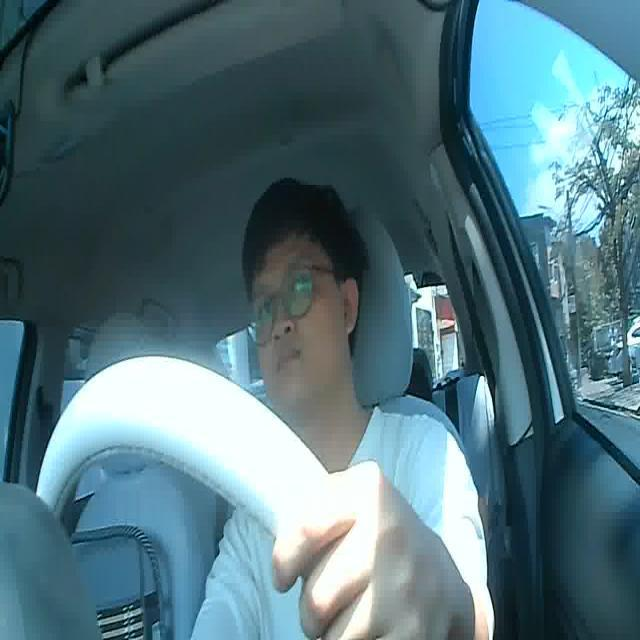Attentive: (243, 175, 370, 419)
Eye-Open: (288, 273, 313, 298), (254, 296, 278, 322)
Normal: (272, 346, 307, 374)
